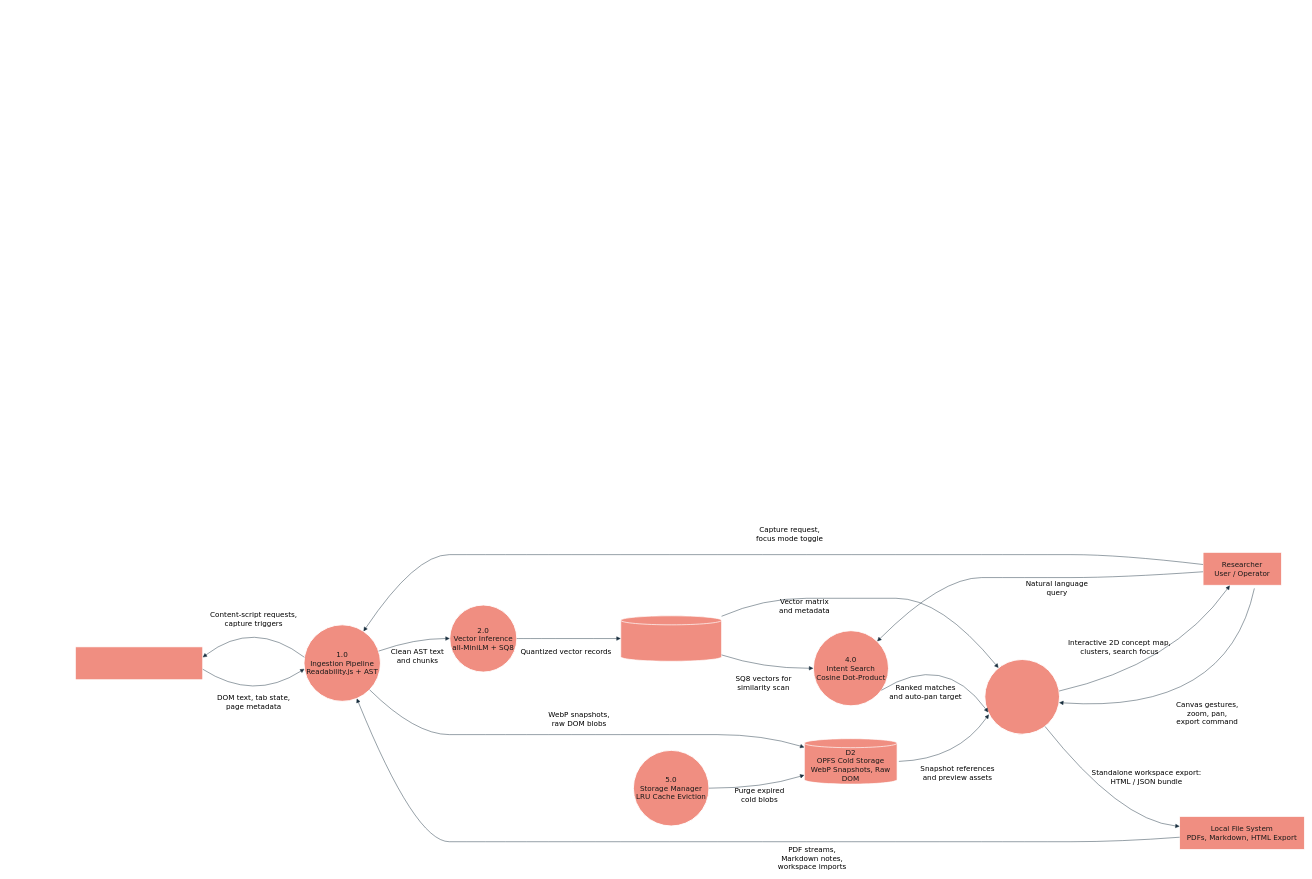
Image size: 1312x879. Some labels were removed from this diagram. Each missing label, with the centre of its shape:
"3.0 Spatial Physics umap-js + Konva.js" belongs at (1022,696).
"Chromium Browser Runtime MV3 Service Worker, Tabs, DOM" belongs at (139,663).
"D1 IndexedDB Hot Layer 384d SQ8 Vectors, Text, URLs" belongs at (671,638).
